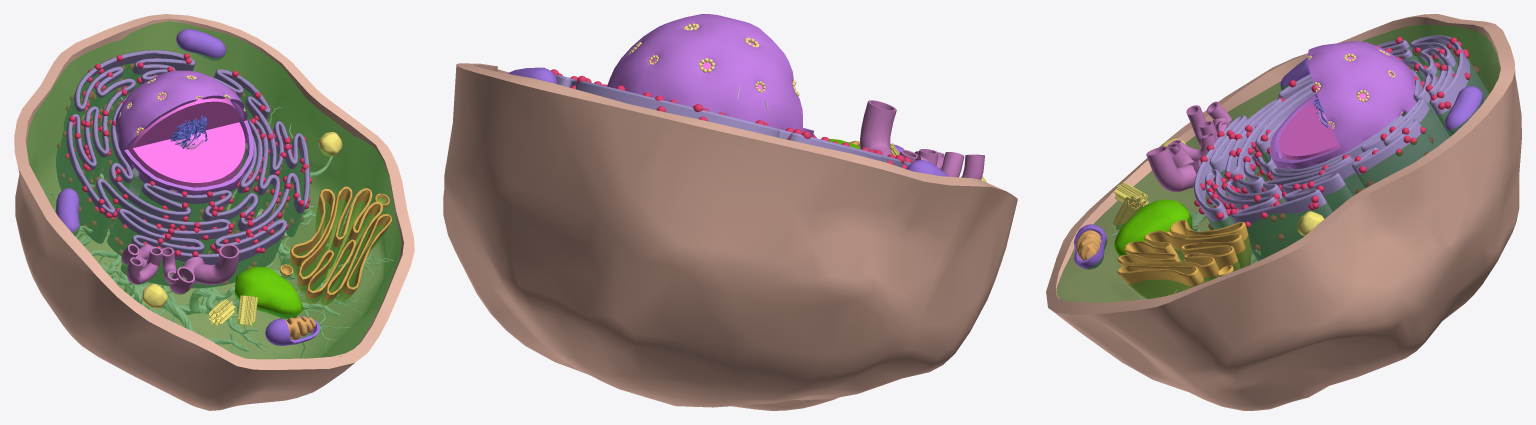
The model's file is animal-cell.glb.
The picture shows the model from 3 angles, left to right: view 1: azimuth 30°, elevation 25°; view 2: azimuth 150°, elevation 25°; view 3: azimuth 270°, elevation 25°; orthographic projection. The views are drawn at different scales.
Visible parts, largest first — view 1: Nulo_, citoplasma_remesh; view 2: Nulo_; view 3: Nulo_, citoplasma_remesh.
Part boxes in pixels (<box>): Nulo_: <box>14,14,414,410</box>; citoplasma_remesh: <box>27,21,401,359</box>; Nulo_: <box>443,14,1017,410</box>; Nulo_: <box>1046,14,1521,410</box>; citoplasma_remesh: <box>1054,24,1500,302</box>.
Bounding box in the file's own units: 596 × 477 × 626.
